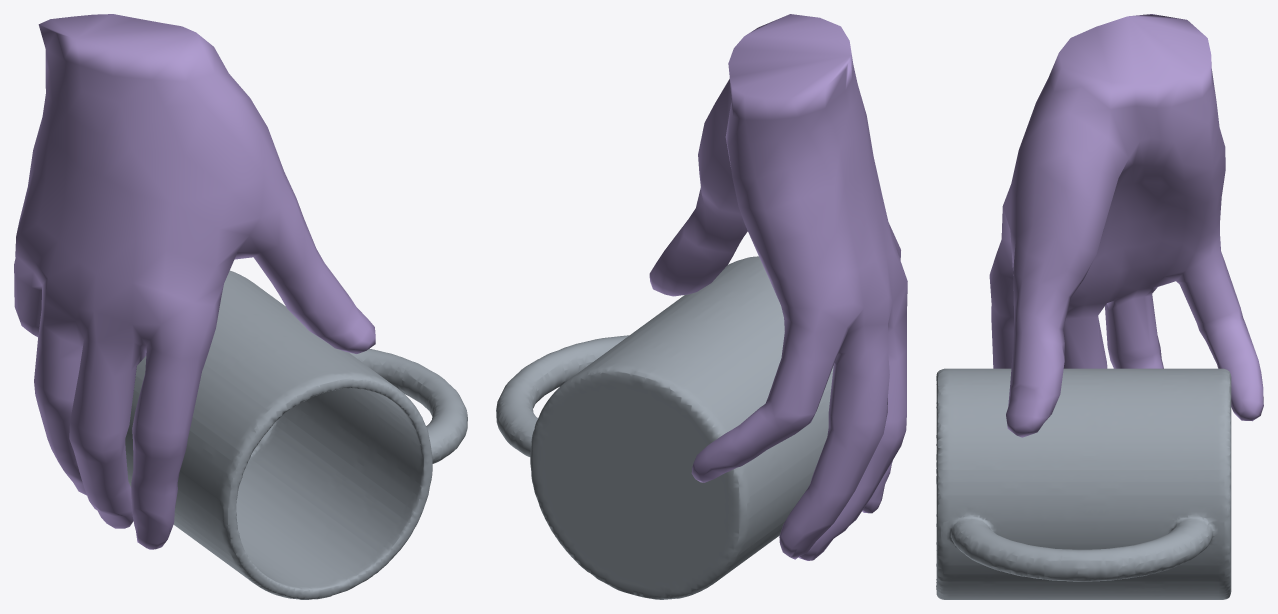
Rendered from ours_3.glb.
3 views of the same model, side by side, from view 1: azimuth 30°, elevation 25°; view 2: azimuth 150°, elevation 25°; view 3: azimuth 270°, elevation 25° (orthographic). The views are drawn at different scales.
Bounding box in the file's own units: 0.1493 × 0.1965 × 0.1165.
